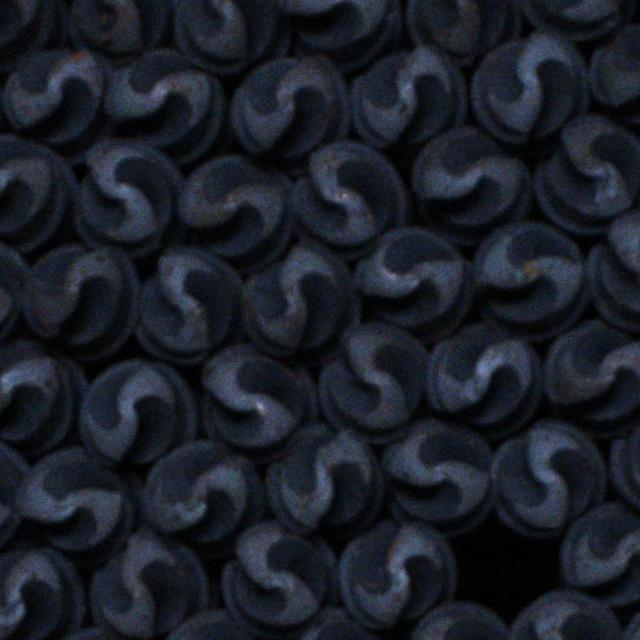tool_b: (471, 217, 591, 341), (232, 51, 350, 176), (239, 238, 359, 360), (488, 420, 606, 541), (103, 48, 223, 166), (89, 523, 210, 640), (411, 128, 532, 244), (220, 520, 336, 640), (202, 341, 315, 464), (352, 225, 471, 341), (176, 157, 294, 272), (290, 144, 408, 259), (471, 30, 587, 146), (22, 243, 138, 359), (265, 424, 382, 539), (336, 520, 458, 630), (378, 418, 494, 532), (529, 115, 640, 234), (16, 446, 135, 557), (320, 321, 426, 444), (142, 438, 265, 543), (426, 323, 540, 436), (134, 245, 244, 362), (348, 41, 466, 150), (75, 138, 183, 255), (3, 47, 108, 164), (80, 358, 198, 462), (542, 318, 640, 440), (0, 340, 89, 450), (280, 0, 404, 72), (559, 500, 640, 610), (0, 138, 76, 254), (175, 0, 291, 73), (0, 546, 83, 640), (406, 0, 522, 65), (587, 208, 640, 332), (586, 22, 640, 142), (72, 0, 178, 61), (508, 590, 622, 640)
void: (452, 516, 562, 619)
